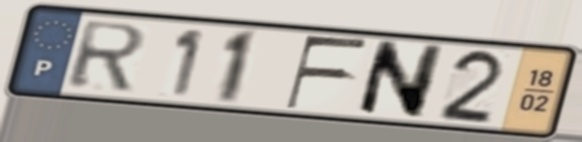1: (218, 26, 266, 108), (171, 26, 206, 99)
2: (435, 47, 510, 127)
F: (281, 33, 373, 112)
N: (352, 38, 449, 121)
R: (63, 19, 150, 93)
